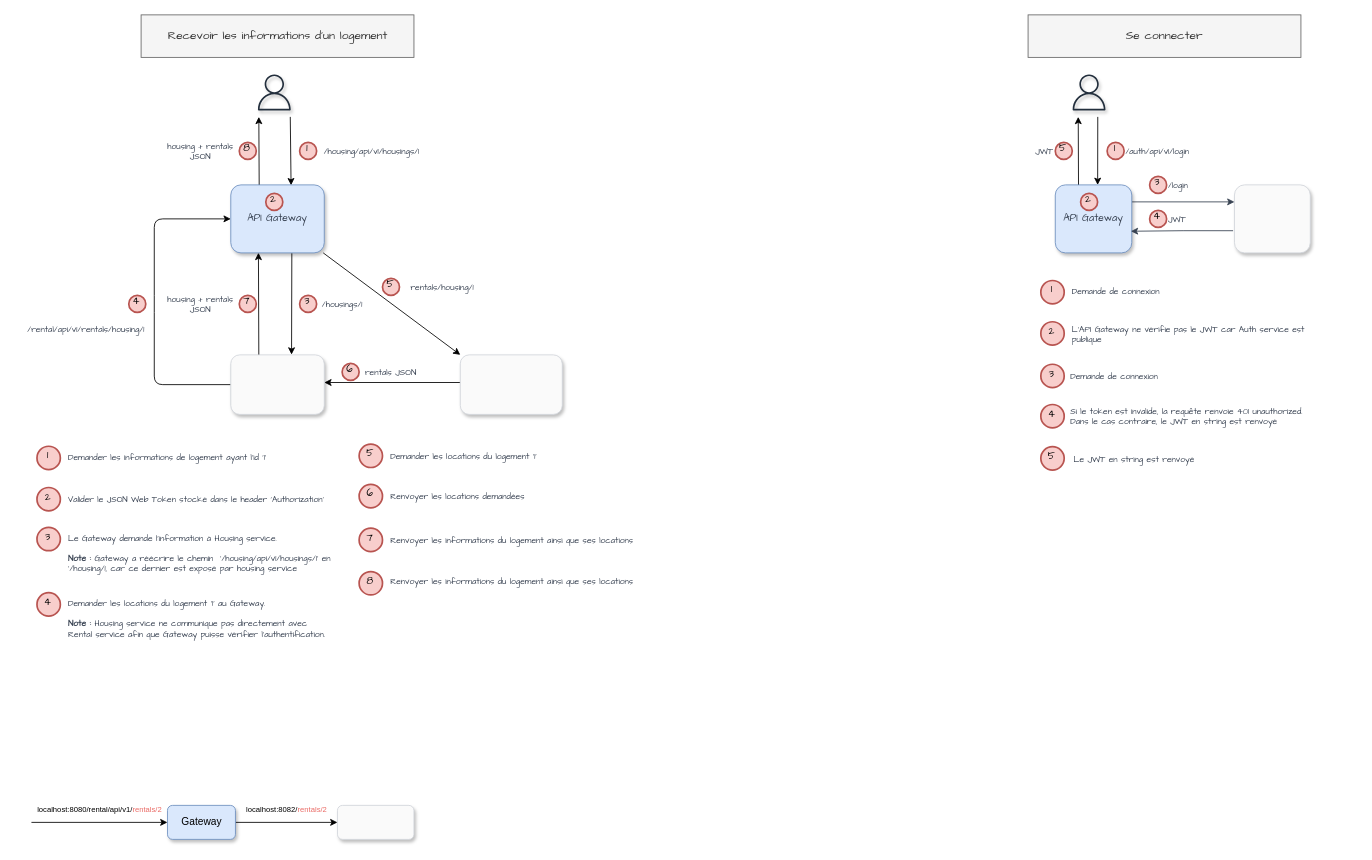
Image size: 1372x860. Some labels were removed from this diagram. The centre of each missing label's shape, as x and y in pixels:
"Auth service" belongs at [1272,220].
"Housing service" belongs at [278,385].
"Rental service" belongs at [376,823].
"Rental sevice" belongs at [511,385].
